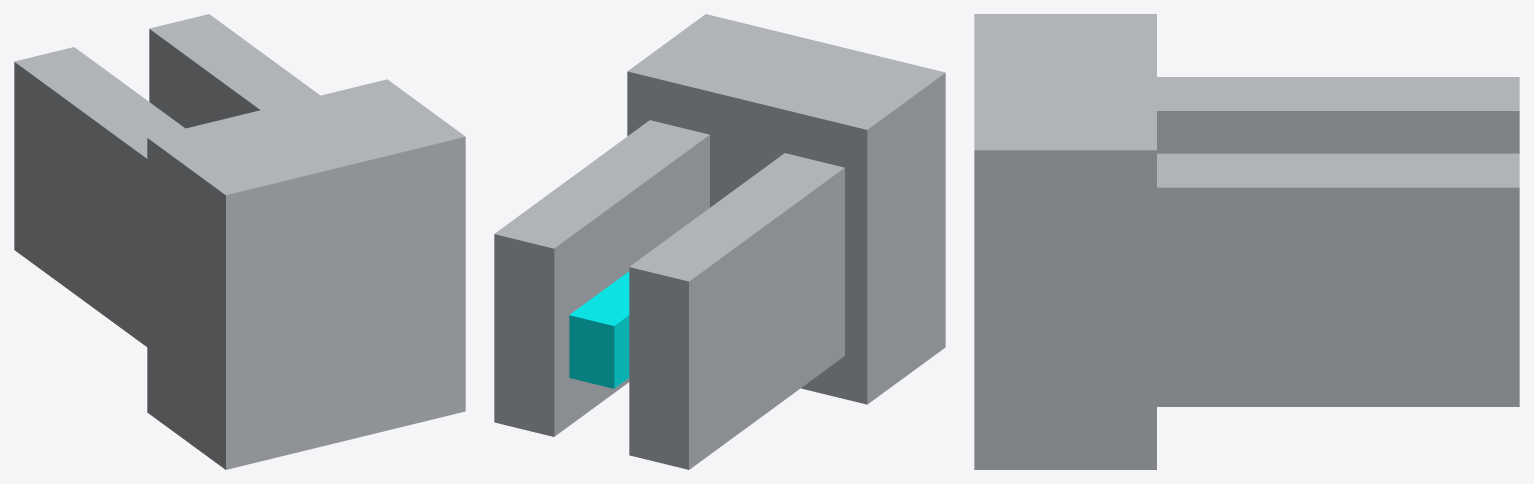
File: Weapons_Railgun_05.glb
The picture shows the model from 3 angles, left to right: view 1: azimuth 30°, elevation 25°; view 2: azimuth 150°, elevation 25°; view 3: azimuth 270°, elevation 25°; orthographic projection. The views are drawn at different scales.
Visible parts, largest first — view 1: Weapons_Railgun_05_gltf_export_temp; view 2: Weapons_Railgun_05_gltf_export_temp; view 3: Weapons_Railgun_05_gltf_export_temp.
Part boxes in pixels (x1=…): Weapons_Railgun_05_gltf_export_temp: x1=14, y1=14, x2=465, y2=469; Weapons_Railgun_05_gltf_export_temp: x1=494, y1=14, x2=945, y2=469; Weapons_Railgun_05_gltf_export_temp: x1=974, y1=14, x2=1519, y2=469.
Size of the model in its own units: 0.5103 by 0.5582 by 0.8625.
